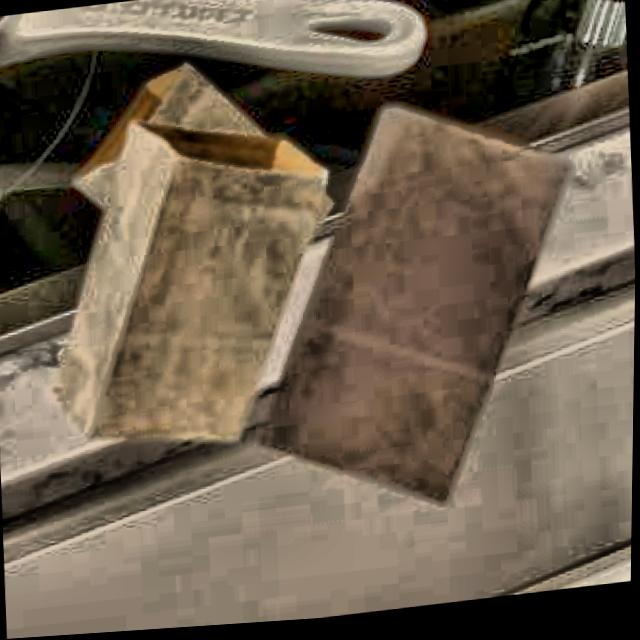Paper-bag: (240, 84, 594, 534), (35, 98, 351, 492), (64, 44, 343, 286)
